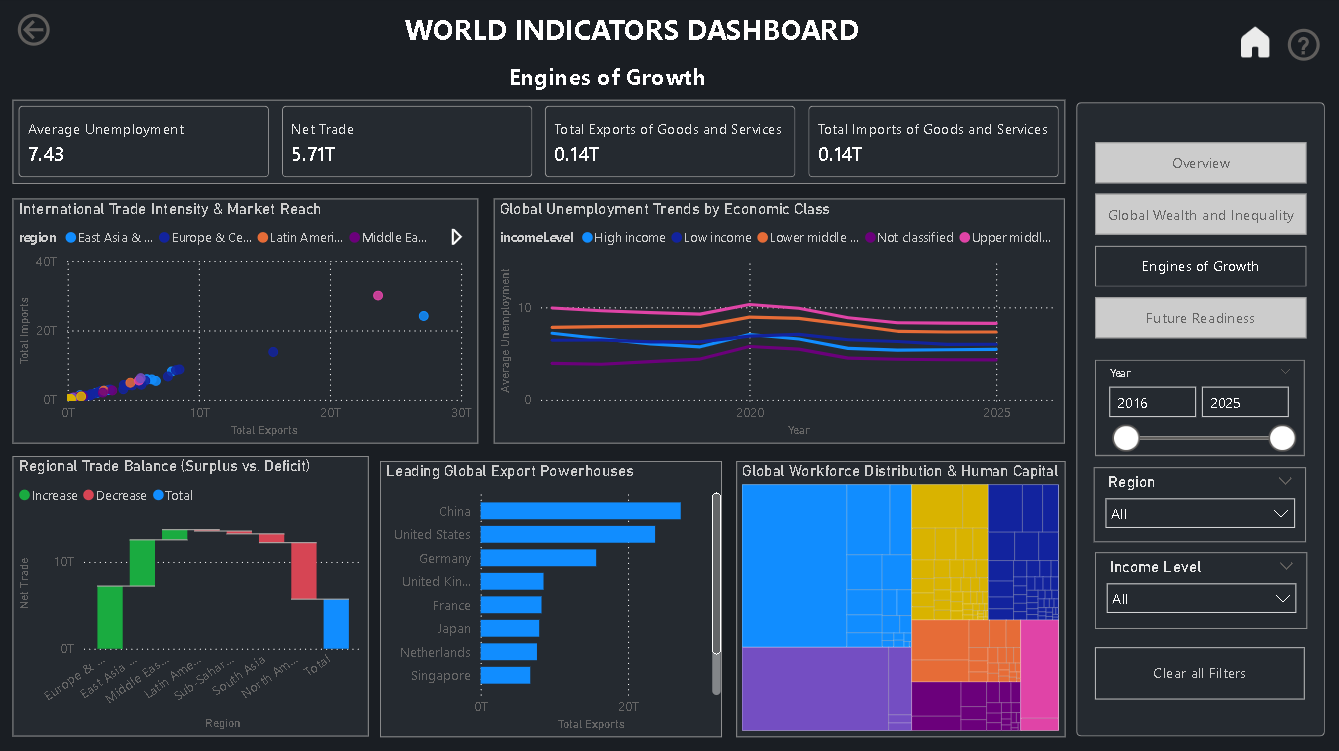

Layout of this report page (visuals, bound fields, positions):
{"tool":"powerbi","page":{"name":"Engines of Growth","canvas":[1280,720],"ordinal":2},"visuals":[{"type":"shape","box":[1027.5,101.2,236.2,602.5],"z":0},{"type":"textbox","box":[385,8.8,446.2,47.5],"z":1000},{"type":"textbox","box":[483.8,56.2,207.5,42.5],"z":2000},{"type":"cardVisual","fields":{"Data":["Avg(Append.Unemployment, total (% of total labor force) (modeled ILO estimate))","MeasureTable.Net Trade","Avg(Append.Exports of goods and services (current US$))","Avg(Append.Imports of goods and services (current US$))"]},"box":[16.2,98.8,1000,80],"z":3000},{"type":"scatterChart","title":"International Trade Intensity & Market Reach","fields":{"Category":["Append.country_value"],"X":["Sum(Append.Exports of goods and services (current US$))"],"Y":["Sum(Append.Imports of goods and services (current US$))"],"Series":["Append.region"]},"box":[16.2,192.5,442.5,232.5],"z":4000},{"type":"treemap","title":"Global Workforce Distribution & Human Capital","fields":{"Group":["Append.region"],"Details":["Append.country_value"],"Values":["Sum(Append.Labor force, total)"]},"box":[703.8,441.2,312.5,262.5],"z":5000},{"type":"waterfallChart","title":"Regional Trade Balance (Surplus vs. Deficit)","fields":{"Category":["Append.region"],"Y":["MeasureTable.Net Trade"]},"box":[16.2,437.5,338.8,266.2],"z":6000},{"type":"lineChart","title":"Global Unemployment Trends by Economic Class","fields":{"Category":["Append.year"],"Y":["Avg(Append.Unemployment, total (% of total labor force) (modeled ILO estimate))"],"Series":["Append.incomeLevel"]},"box":[473.8,192.5,542.5,232.5],"z":7000},{"type":"clusteredBarChart","title":"Leading Global Export Powerhouses","fields":{"Y":["Sum(Append.Exports of goods and services (current US$))"],"Category":["Append.country_value"]},"box":[366.2,441.2,325,262.5],"z":8000},{"type":"pageNavigator","box":[1045,138.8,201.2,188.8],"z":9000},{"type":"actionButton","box":[16.6,11.9,40.4,40.4],"z":10000},{"type":"actionButton","box":[1223,26.1,40.4,40.4],"z":11000},{"type":"image","box":[1179,26.1,35.6,35.6],"z":12000},{"type":"slicer","fields":{"Values":["Append.region"]},"box":[1043.7,447.6,201.9,71.2],"z":13000},{"type":"slicer","fields":{"Values":["labour_market.year","Append.year"]},"box":[1044.9,345.5,199.5,91.4],"z":14000},{"type":"slicer","fields":{"Values":["Append.incomeLevel"]},"box":[1044.9,528.4,201.9,72.4],"z":15000},{"type":"actionButton","box":[1044.9,618.6,199.5,49.9],"z":16000}]}

Visuals, with their boxes in screenshot pixels (x1, y1, x2, y2), scaled from the page's 1280x720 canvas onto the 1339x751 screenshot:
shape: select_region(1075, 106, 1322, 734)
textbox: select_region(403, 9, 870, 59)
textbox: select_region(506, 59, 723, 103)
cardVisual - Avg(Append.Unemployment, total (% of total labor force) (modeled ILO estimate)) x MeasureTable.Net Trade: select_region(17, 103, 1063, 186)
"International Trade Intensity & Market Reach" scatterChart: select_region(17, 201, 480, 443)
"Global Workforce Distribution & Human Capital" treemap: select_region(736, 460, 1063, 734)
"Regional Trade Balance (Surplus vs. Deficit)" waterfallChart: select_region(17, 456, 371, 734)
"Global Unemployment Trends by Economic Class" lineChart: select_region(496, 201, 1063, 443)
"Leading Global Export Powerhouses" clusteredBarChart: select_region(383, 460, 723, 734)
pageNavigator: select_region(1093, 145, 1304, 342)
actionButton: select_region(17, 12, 60, 55)
actionButton: select_region(1279, 27, 1322, 69)
image: select_region(1233, 27, 1271, 64)
slicer - Append.region: select_region(1092, 467, 1303, 541)
slicer - labour_market.year x Append.year: select_region(1093, 360, 1302, 456)
slicer - Append.incomeLevel: select_region(1093, 551, 1304, 627)
actionButton: select_region(1093, 645, 1302, 697)
